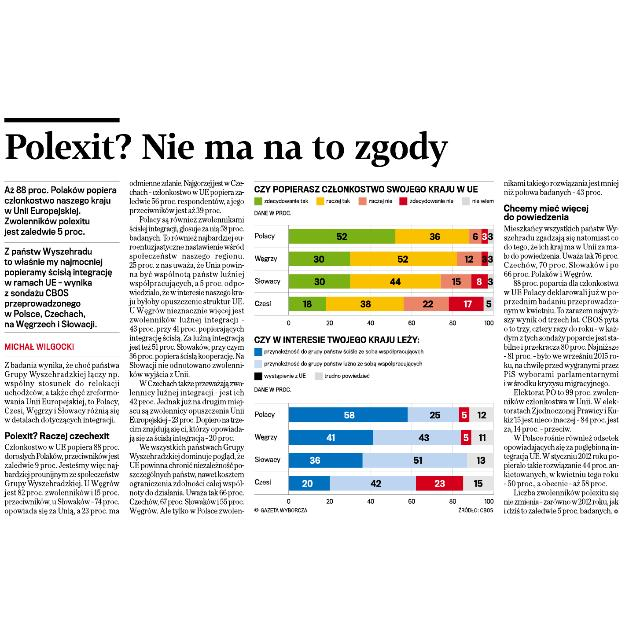author: (1, 338, 81, 354)
body: (125, 177, 248, 518), (502, 178, 624, 516), (1, 358, 120, 516)
image: (250, 179, 498, 517)
lead: (2, 182, 120, 332)
title: (3, 125, 464, 173)
